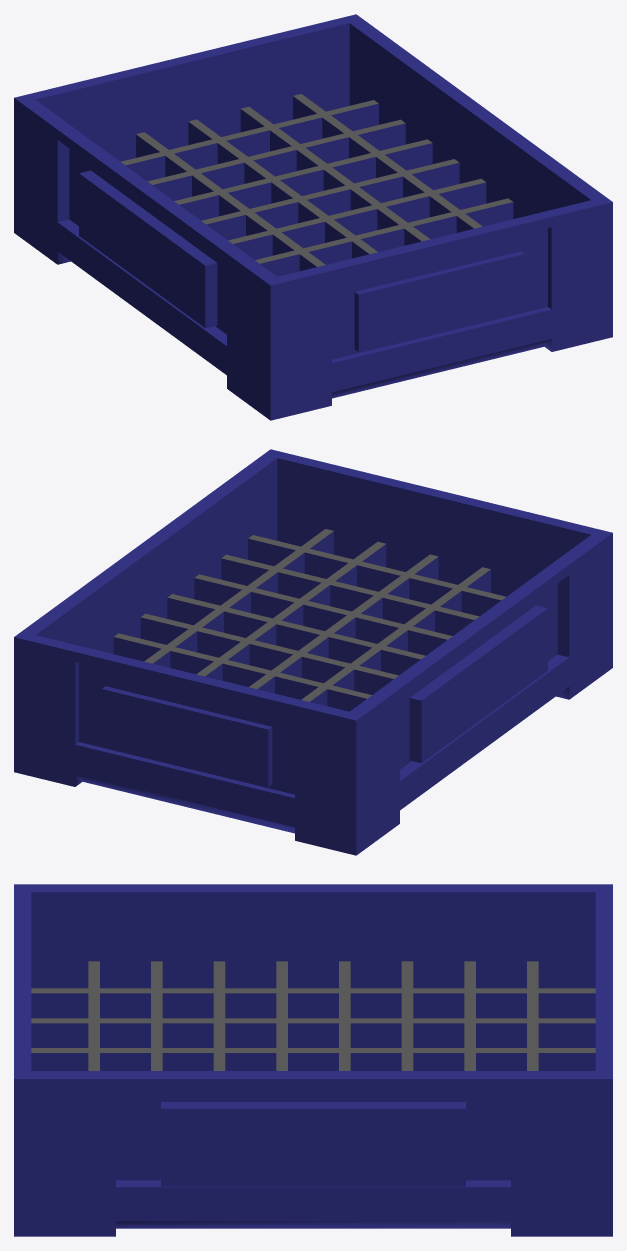
The model's file is kasa_mavi.fbx.
3 views of the same model, one above another, from view 1: azimuth 30°, elevation 25°; view 2: azimuth 150°, elevation 25°; view 3: azimuth 270°, elevation 25° (orthographic). The views are drawn at different scales.
Parts seen in each view (by area): view 1: polySurface291; view 2: polySurface291; view 3: polySurface291.
Boxes of the visible parts, x1=… form: polySurface291: x1=14, y1=14, x2=612, y2=420; polySurface291: x1=14, y1=449, x2=612, y2=855; polySurface291: x1=14, y1=884, x2=612, y2=1236.
Size of the model in its own units: 54.64 by 20.59 by 70.94.
